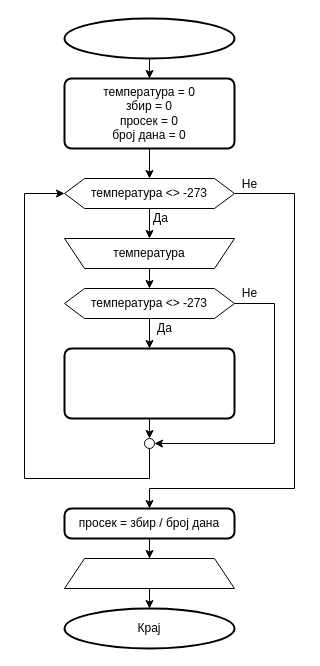
This 320x666 diagram has some shape labels left out. The box of each missing label's shape, as (x1, y1, x2, y2) in pixels:
број дана = број дана + 1 збир = збир + температура: (63, 347, 235, 419)
просек: (64, 558, 234, 588)
Старт: (63, 17, 235, 59)
